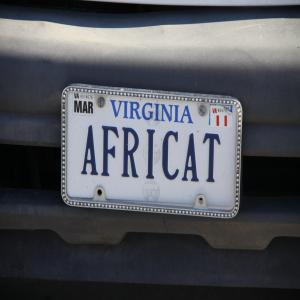Vehicle-registration-plate: (65, 84, 246, 217)
